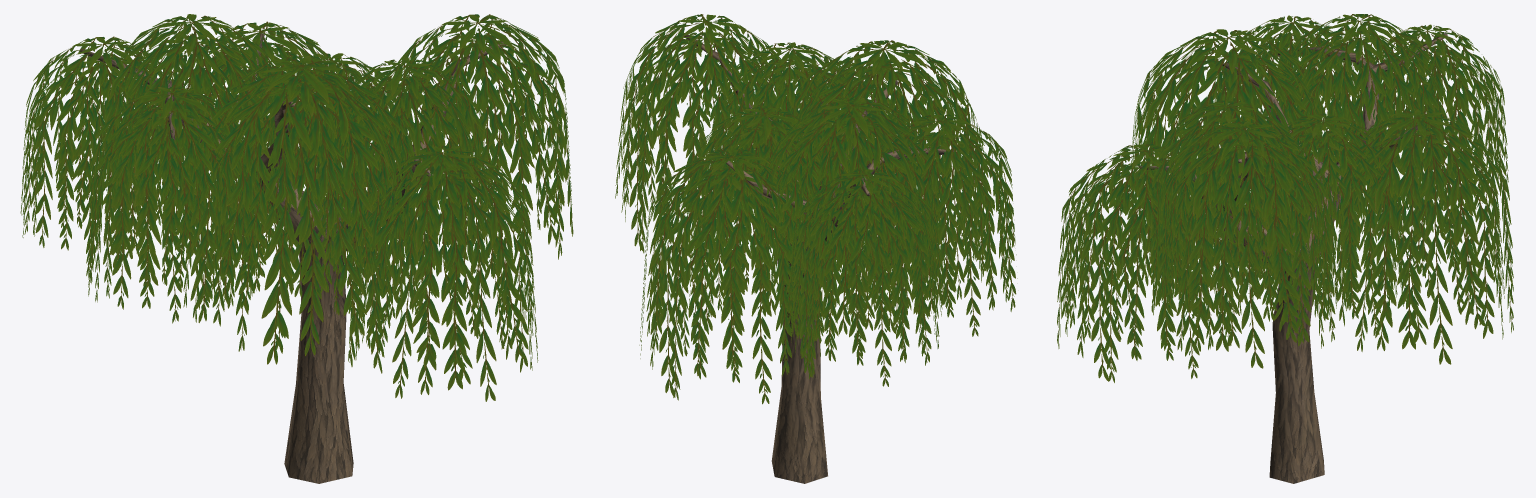
The model's file is Willow02.fbx.
The picture shows the model from 3 angles, left to right: view 1: azimuth 30°, elevation 25°; view 2: azimuth 150°, elevation 25°; view 3: azimuth 270°, elevation 25°; orthographic projection. The views are drawn at different scales.
Parts seen in each view (by area): view 1: Willow02_LOD0; view 2: Willow02_LOD0; view 3: Willow02_LOD0.
Boxes of the visible parts, x1=… form: Willow02_LOD0: x1=20, y1=14, x2=573, y2=483; Willow02_LOD0: x1=615, y1=14, x2=1017, y2=483; Willow02_LOD0: x1=1057, y1=14, x2=1513, y2=483.
Size of what is drawn, in the model's own units: 5.18 by 4.82 by 5.05.
